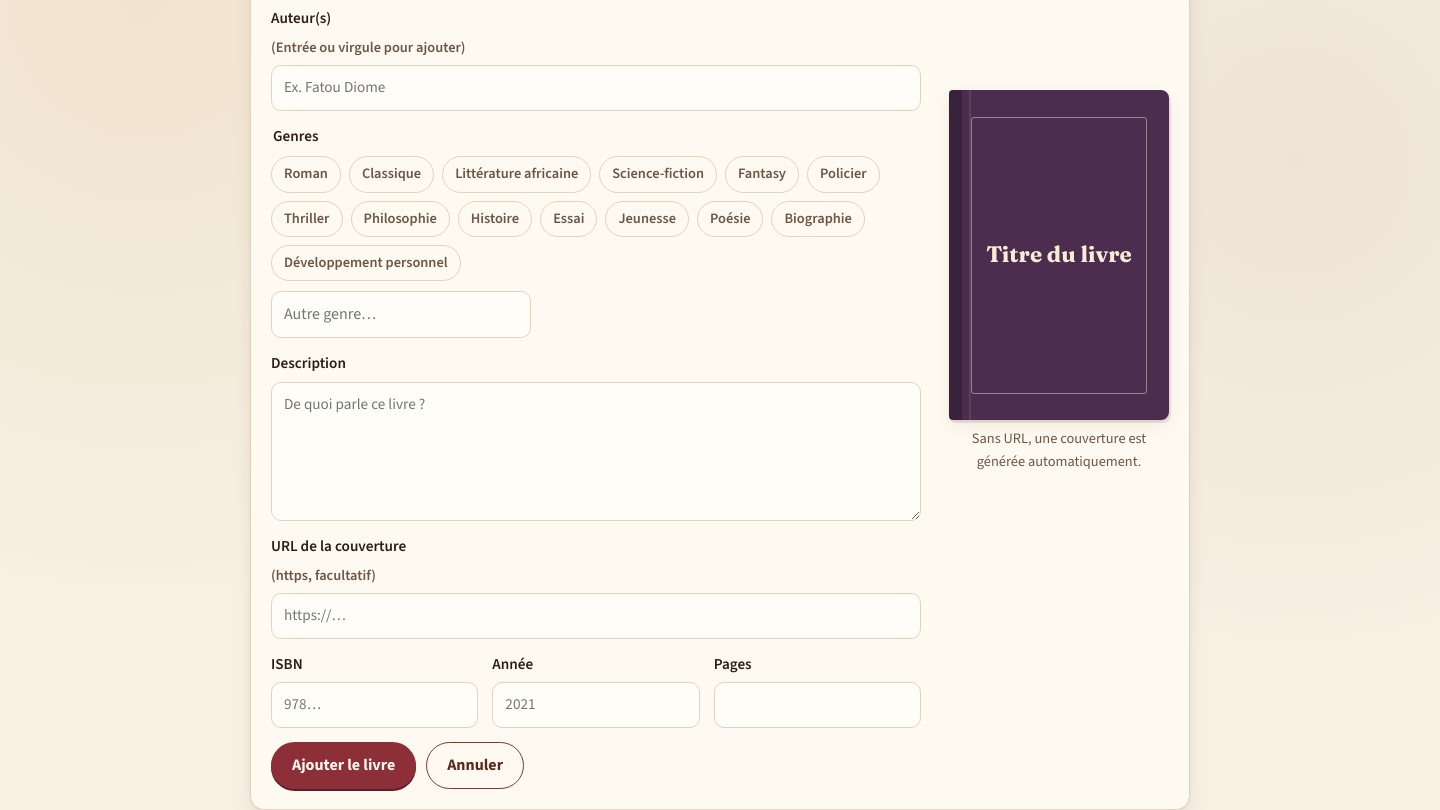
it: BookFormPage (Ajouter un livre) › valide le formulaire côté client (titre, ISBN, URL https) sans appeler l’API
(page scrolled)
Type "9782253109076" into the field labelled "ISBN" at (375, 705), box 271,682 -> 478,728
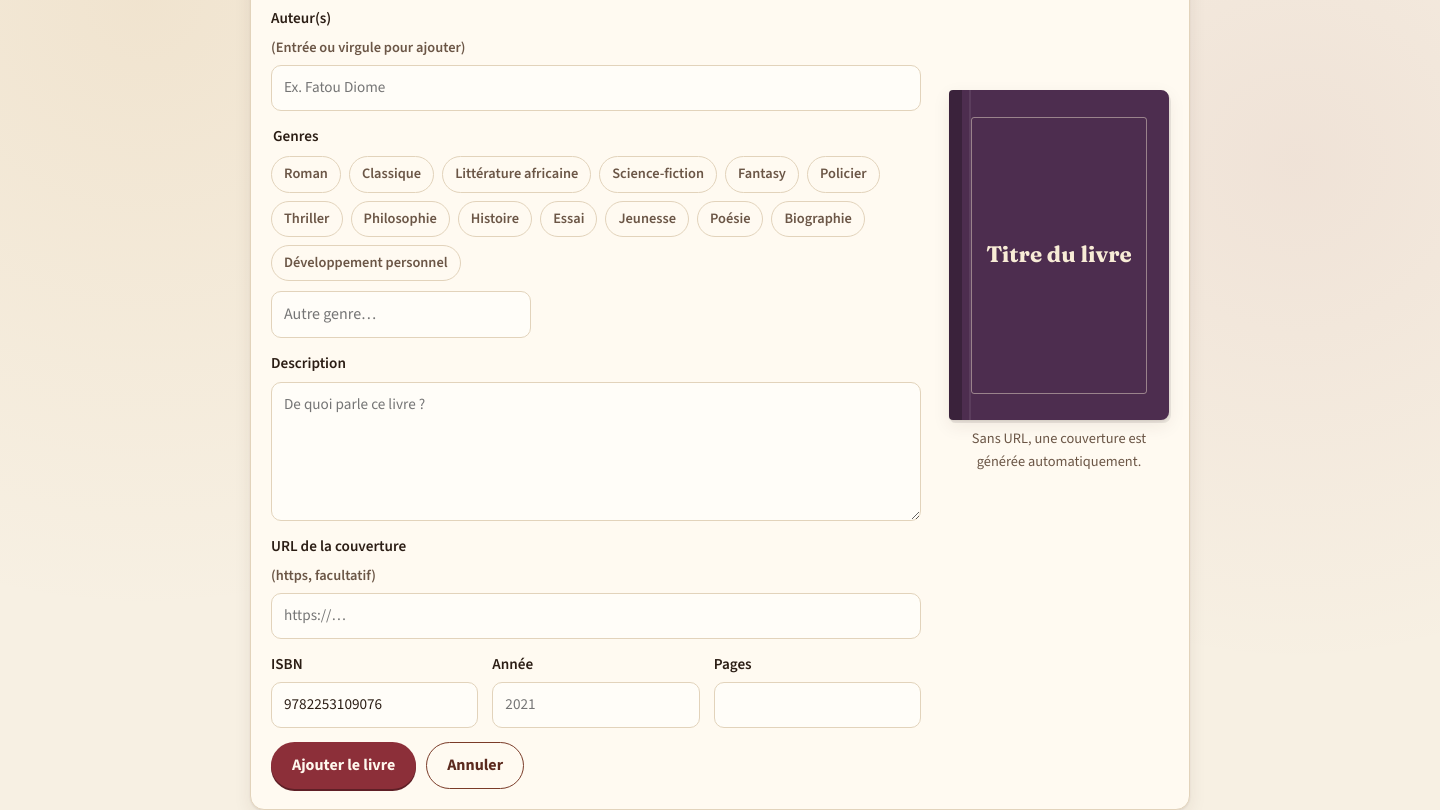
Type "http://exemple.org/c.jpg" into the field labelled "URL de la couverture (https, facultatif)" at (596, 616), box 271,593 -> 921,639
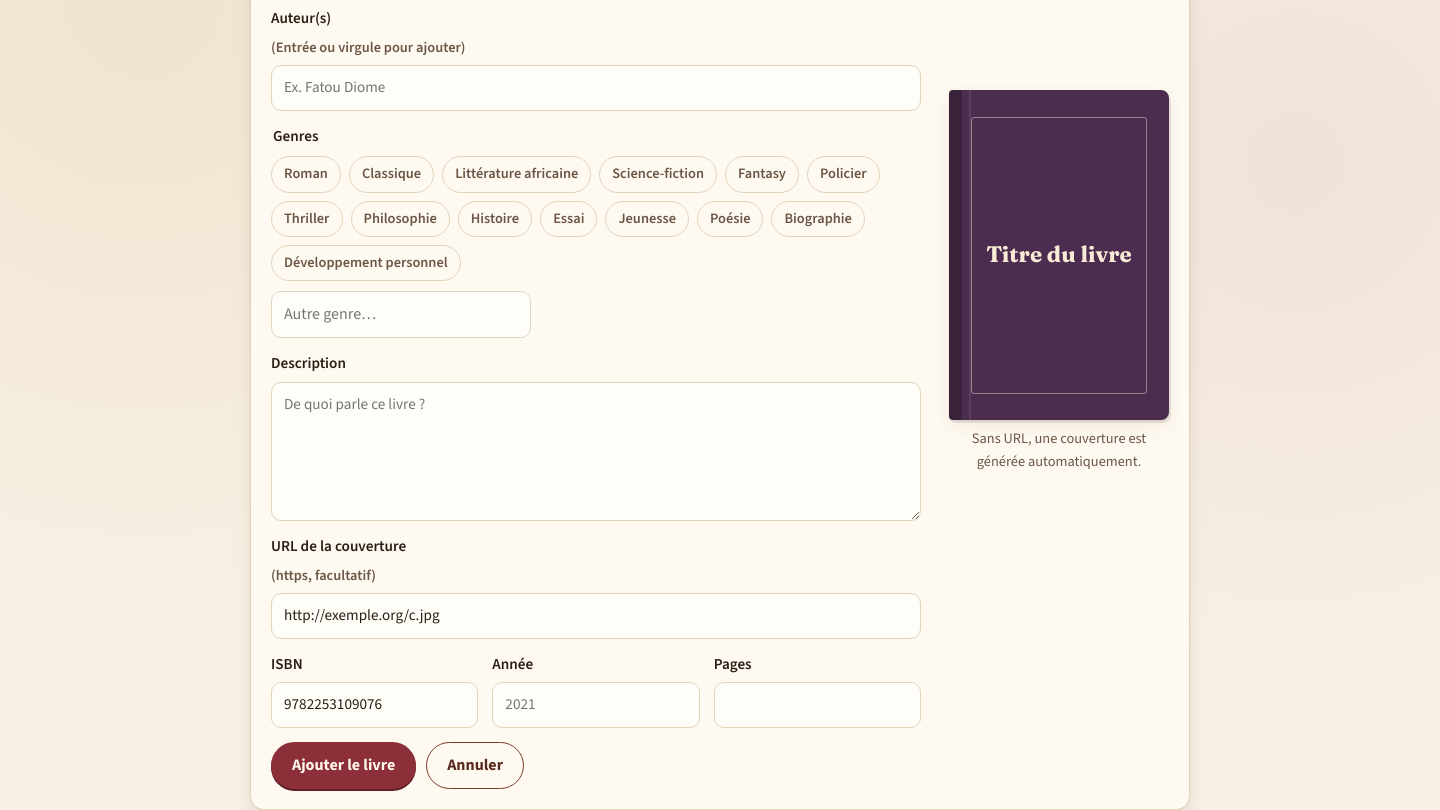
Click the button "Ajouter le livre" at (344, 765), box 271,742 -> 416,789
(page scrolled)
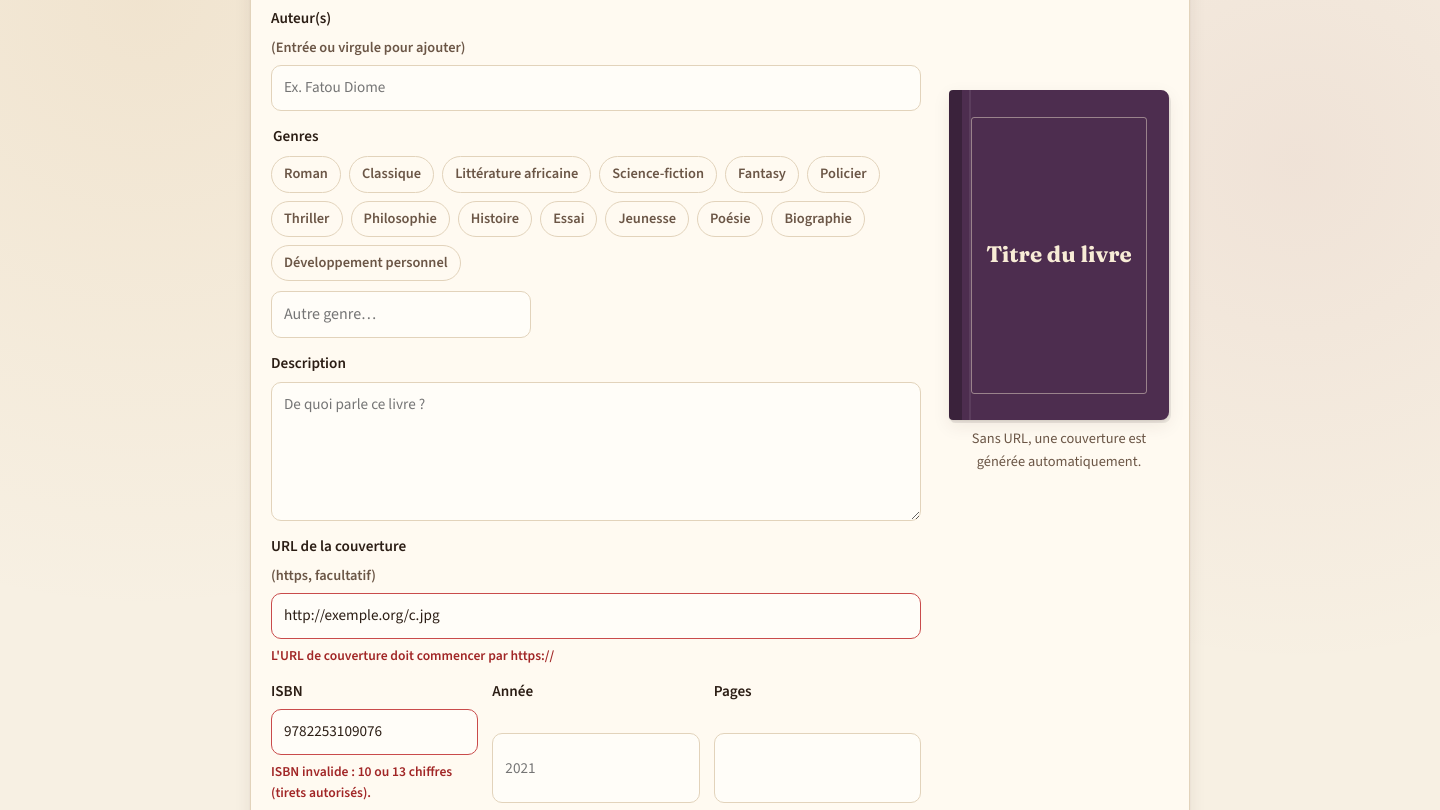
Result: the text "ISBN invalide : 10 ou 13 chiffres (tirets autorisés)." is shown at 271,761 -> 478,803
Result: the text "L'URL de couverture doit commencer par https://" is shown at 271,646 -> 554,664
